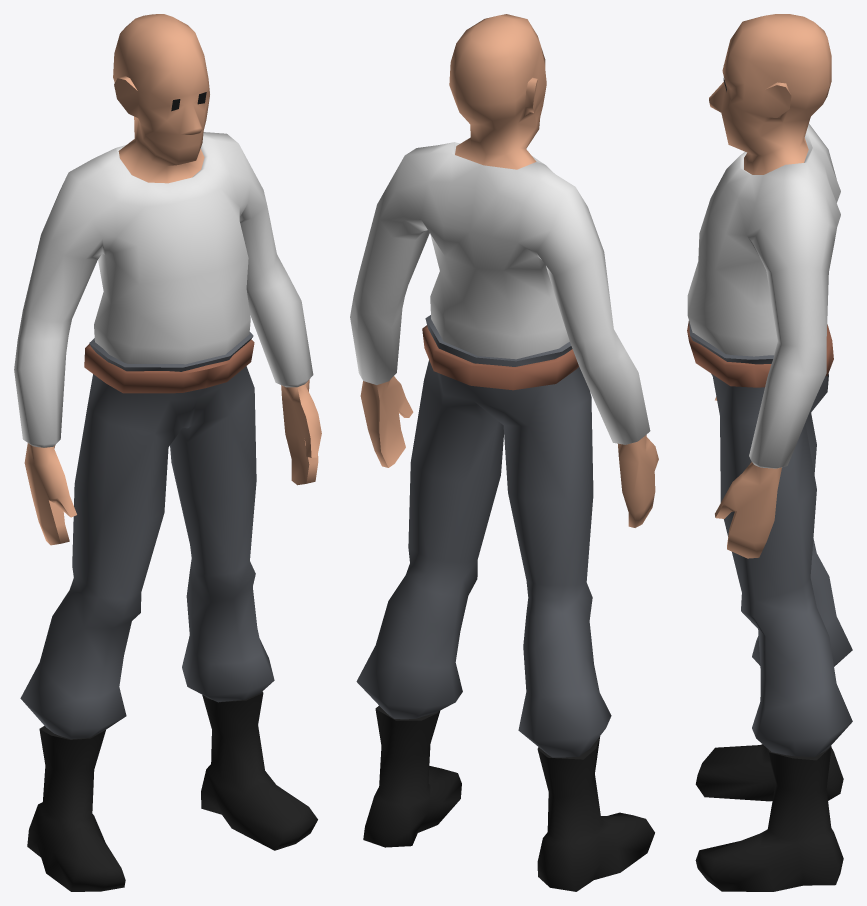
The model's file is SM_Soldier_05.fbx.
3 views of the same model, side by side, from view 1: azimuth 30°, elevation 25°; view 2: azimuth 150°, elevation 25°; view 3: azimuth 270°, elevation 25° (orthographic).
Visible parts, largest first — view 1: Soldier_05_Pants, Soldier_05_Shirt, Soldier_05_Boots, Soldier_05_Body, Soldier_05_Belt; view 2: Soldier_05_Pants, Soldier_05_Shirt, Soldier_05_Boots, Soldier_05_Body, Soldier_05_Belt; view 3: Soldier_05_Shirt, Soldier_05_Pants, Soldier_05_Body, Soldier_05_Boots, Soldier_05_Belt.
Part boxes in pixels (x1,y1,x2,y2): Soldier_05_Pants: [20, 332, 274, 739]; Soldier_05_Shirt: [14, 132, 313, 447]; Soldier_05_Boots: [27, 691, 317, 891]; Soldier_05_Body: [24, 14, 321, 545]; Soldier_05_Belt: [84, 339, 254, 393]; Soldier_05_Pants: [356, 315, 611, 757]; Soldier_05_Shirt: [350, 142, 650, 444]; Soldier_05_Boots: [363, 706, 654, 891]; Soldier_05_Body: [360, 14, 658, 527]; Soldier_05_Belt: [422, 325, 578, 390]; Soldier_05_Shirt: [687, 124, 840, 468]; Soldier_05_Pants: [689, 322, 852, 756]; Soldier_05_Body: [709, 14, 831, 558]; Soldier_05_Boots: [695, 744, 843, 891]; Soldier_05_Belt: [687, 321, 833, 387].
Bounding box in the file's own units: 65.61 × 182 × 33.55.
